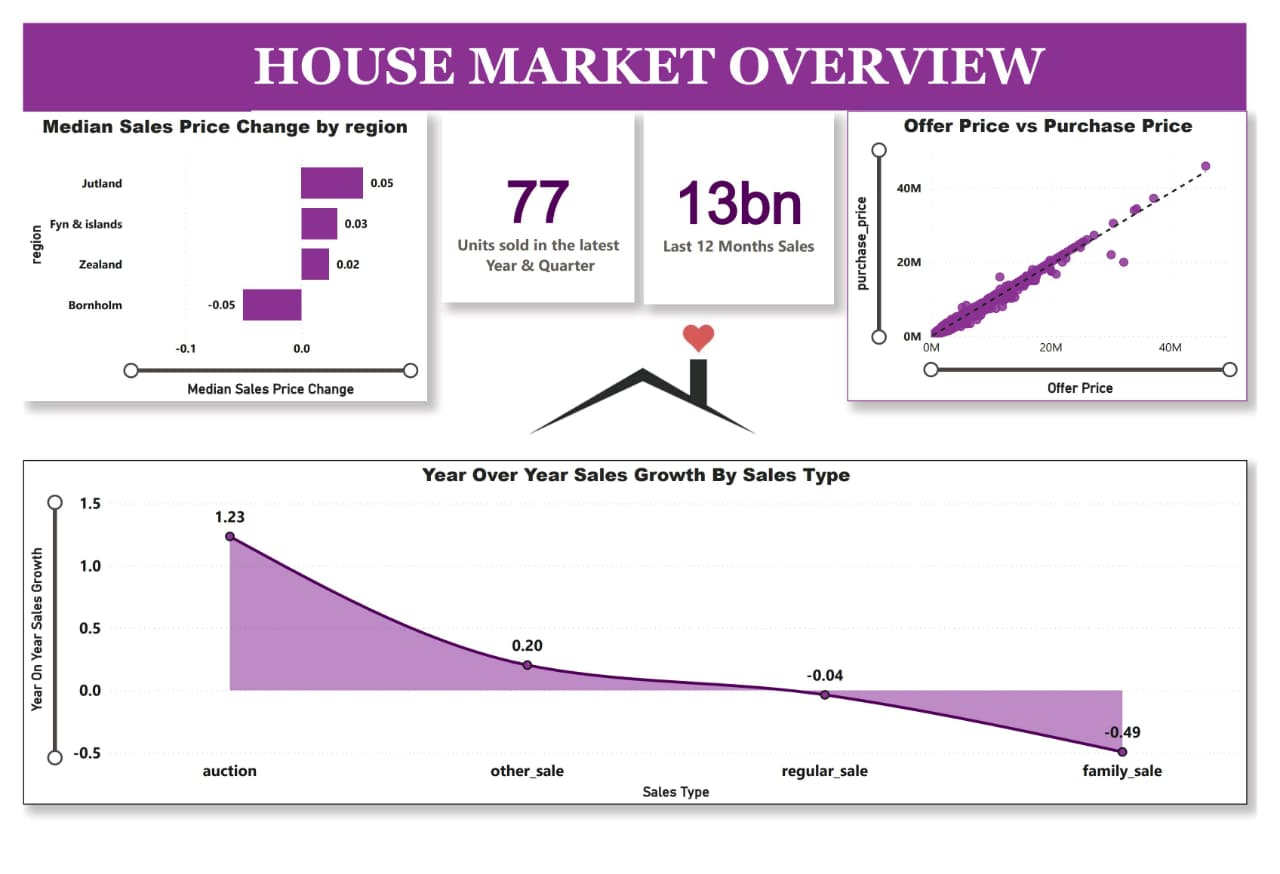

This screenshot's page, from the dashboard's own definition file:
{"tool":"powerbi","page":{"name":"House Market Overview","canvas":[1280,860],"ordinal":0},"visuals":[{"type":"textbox","box":[0,0,1268.9,92.2],"z":0},{"type":"image","box":[237,91.1,812.2,559],"z":1000},{"type":"barChart","fields":{"Y":["Housing.Median Sales Price Change"],"Category":["Housing.region"]},"box":[0,93.2,419.2,299.7],"z":2000},{"type":"card","fields":{"Values":["Housing.Units sold in the latest Year & Quarter"]},"box":[435.4,93.2,198.5,196.5],"z":3000},{"type":"card","fields":{"Values":["Housing.Last 12 Months Sales"]},"box":[644.1,93.2,196.5,198.5],"z":4000},{"type":"scatterChart","title":"Offer Price vs Purchase Price","fields":{"X":["Housing.Offer Price"],"Y":["Housing.purchase_price"]},"box":[854.5,91.5,415.4,301.9],"z":5000},{"type":"lineChart","title":"Year Over Year Sales Growth By Sales Type","fields":{"Y":["Housing.YOY_Sales_Growth"],"Category":["Housing.sales_type"]},"box":[0,453.8,1269.9,358.6],"z":6000}]}

Visuals, with their boxes in screenshot pixels (x1, y1, x2, y2), scaled from the page's 1280x860 canvas onto the 1280x874 screenshot:
textbox: <bbox>0, 0, 1269, 94</bbox>
image: <bbox>237, 93, 1049, 661</bbox>
barChart - Housing.Median Sales Price Change x Housing.region: <bbox>0, 95, 419, 399</bbox>
card - Housing.Units sold in the latest Year & Quarter: <bbox>435, 95, 634, 294</bbox>
card - Housing.Last 12 Months Sales: <bbox>644, 95, 841, 296</bbox>
"Offer Price vs Purchase Price" scatterChart: <bbox>854, 93, 1270, 400</bbox>
"Year Over Year Sales Growth By Sales Type" lineChart: <bbox>0, 461, 1270, 826</bbox>
